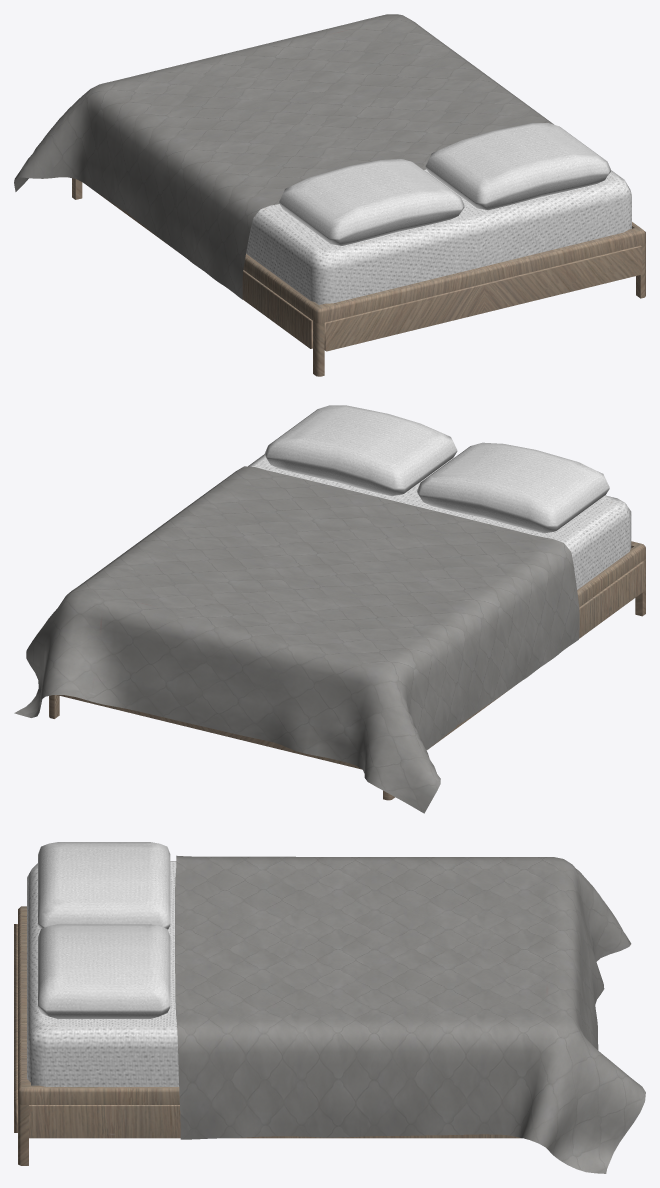
Rendered from Bed.fbx.
3 views of the same model, one above another, from view 1: azimuth 30°, elevation 25°; view 2: azimuth 150°, elevation 25°; view 3: azimuth 270°, elevation 25° (orthographic). The views are drawn at different scales.
Visible parts, largest first — view 1: sheet1; view 2: sheet1; view 3: sheet1.
Part boxes in pixels (box(x1,y1,x2,y2)): sheet1: box(14, 14, 645, 376); sheet1: box(14, 405, 645, 813); sheet1: box(14, 842, 645, 1173).
Size of the model in its own units: 204 by 67.66 by 231.
